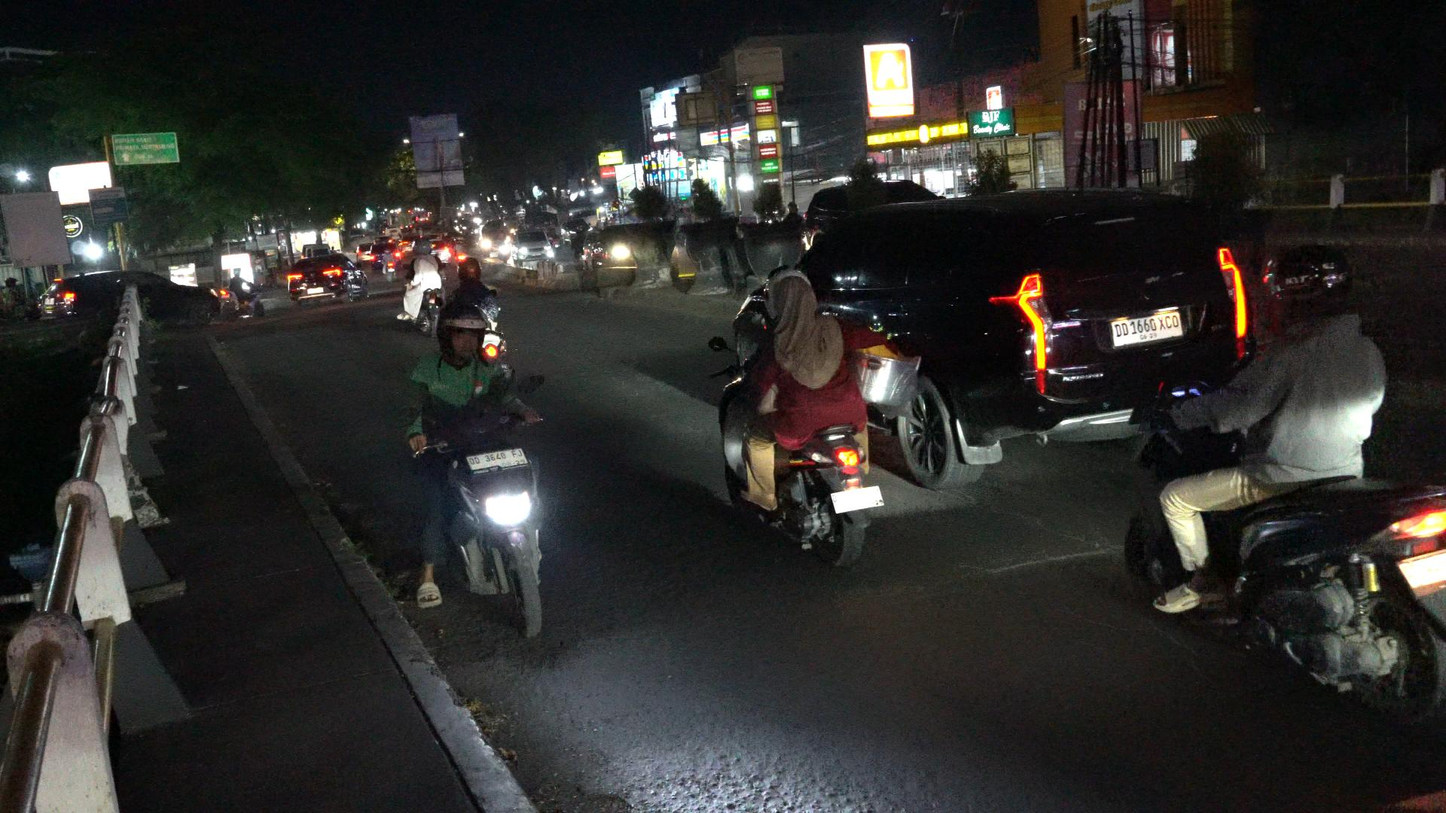number-plate: (464, 443, 529, 475)
